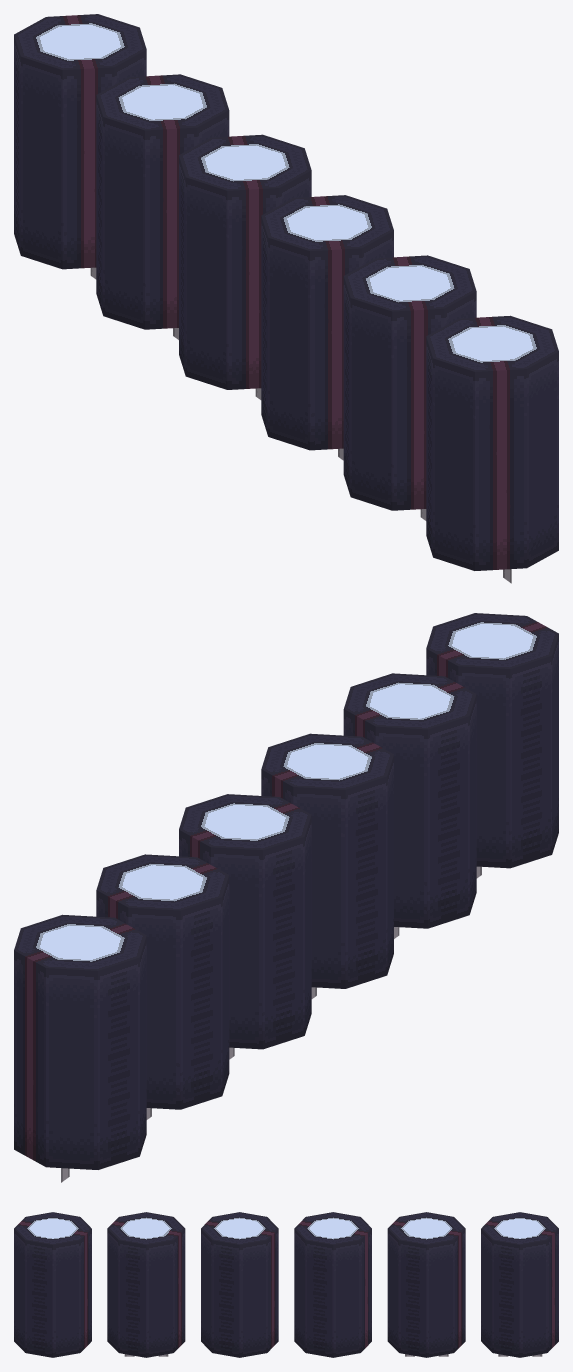
The model's file is condenser.glb.
3 renders of one model, top to bottom at view 1: azimuth 30°, elevation 25°; view 2: azimuth 150°, elevation 25°; view 3: azimuth 270°, elevation 25°, orthographic. The views are drawn at different scales.
Visible parts, largest first — view 1: 円柱.005, 円柱.004, 円柱.001, 円柱.003, 円柱.002, 円柱; view 2: 円柱.003, 円柱.001, 円柱.004, 円柱.005, 円柱.002, 円柱; view 3: 円柱.004, 円柱.001, 円柱.003, 円柱, 円柱.002, 円柱.005.
Boxes of the visible parts, x1=… form: 円柱.005: x1=426, y1=315, x2=558, y2=583; 円柱.004: x1=343, y1=255, x2=476, y2=520; 円柱.001: x1=96, y1=74, x2=229, y2=339; 円柱.003: x1=14, y1=14, x2=146, y2=279; 円柱.002: x1=179, y1=134, x2=311, y2=399; 円柱: x1=261, y1=195, x2=393, y2=460; 円柱.003: x1=14, y1=914, x2=146, y2=1182; 円柱.001: x1=96, y1=854, x2=229, y2=1119; 円柱.004: x1=343, y1=673, x2=476, y2=938; 円柱.005: x1=426, y1=613, x2=558, y2=878; 円柱.002: x1=179, y1=794, x2=311, y2=1059; 円柱: x1=261, y1=733, x2=393, y2=998; 円柱.004: x1=107, y1=1212, x2=185, y2=1357; 円柱.001: x1=387, y1=1212, x2=465, y2=1357; 円柱.003: x1=481, y1=1212, x2=558, y2=1357; 円柱: x1=201, y1=1212, x2=278, y2=1357; 円柱.002: x1=294, y1=1212, x2=371, y2=1357; 円柱.005: x1=14, y1=1212, x2=91, y2=1357.
Size of the model in its own units: 1 by 1.81 by 7.
Materials: 6 (6 with a texture image).
